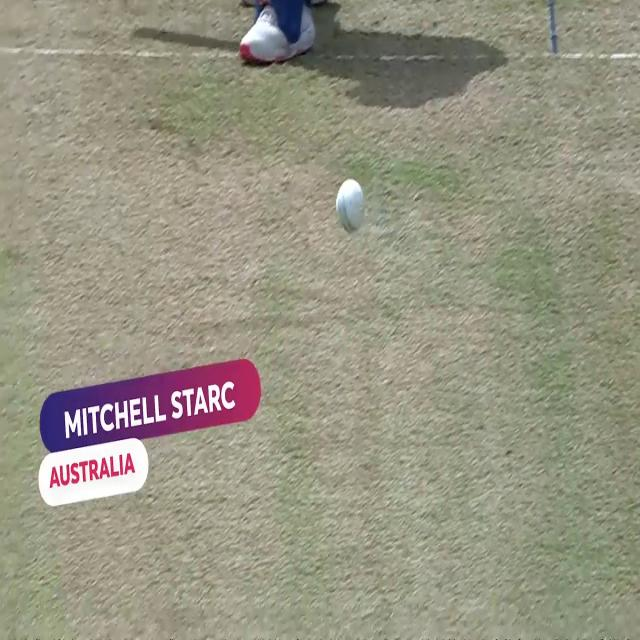ball: (336, 177, 366, 232)
